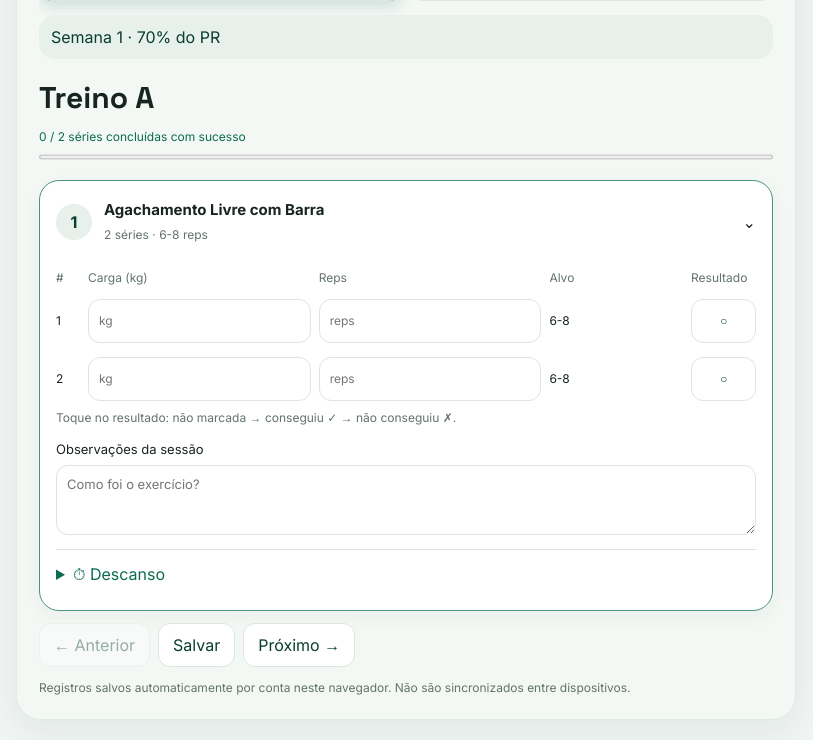
Test: Workout execution › reports storage failures instead of claiming success
The width and height of the screenshot is (813, 740).
(page scrolled)
Step 1. Click the button "Salvar" → (197, 645), box [158,623,235,667]
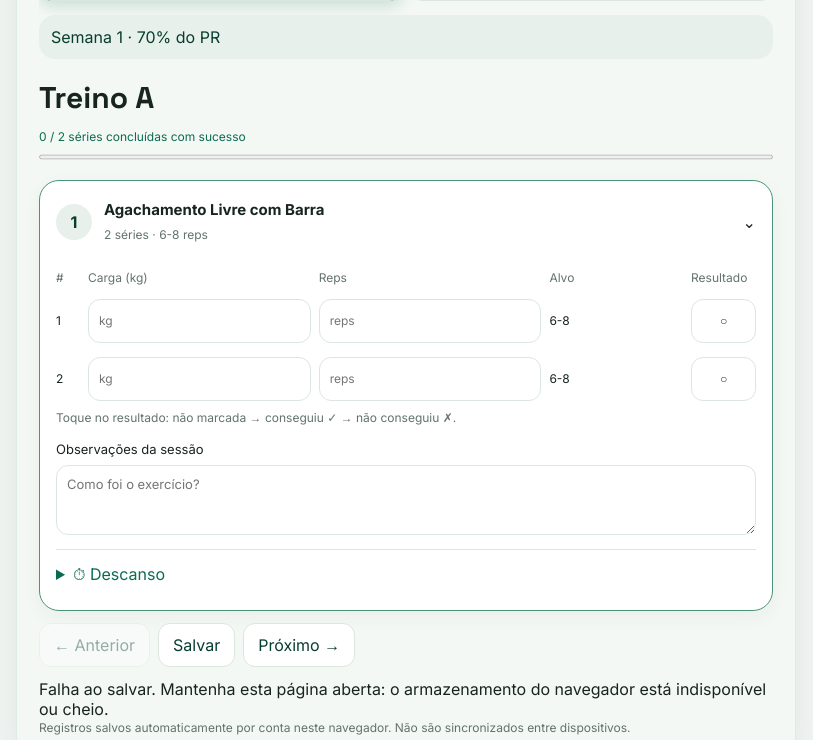
Result: the message shows "Falha ao salvar" at [39,679,766,719]
